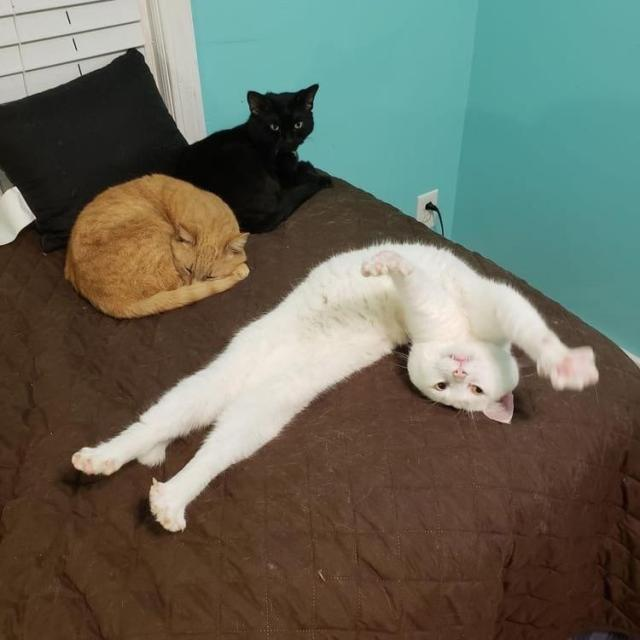cat: (102, 236, 616, 535), (62, 160, 252, 322), (192, 88, 338, 225)
